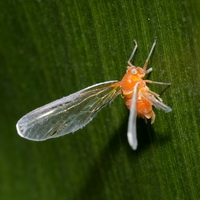insect: (16, 39, 171, 149)
